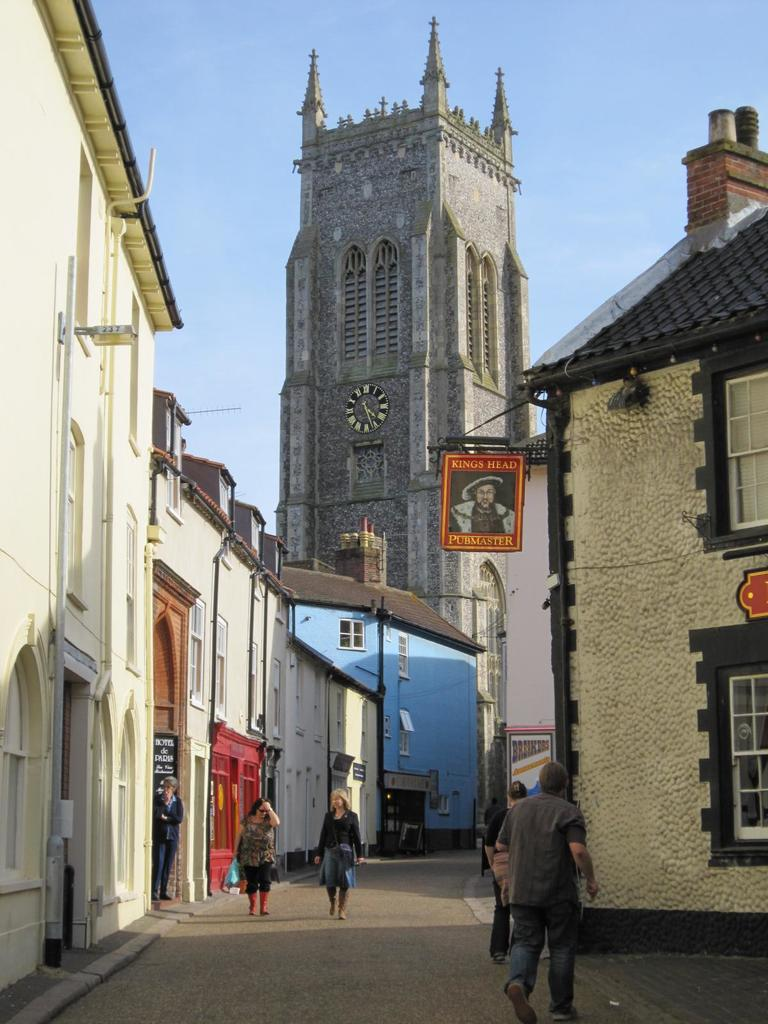Footwear: (503, 979, 540, 1023), (324, 884, 355, 921), (243, 889, 276, 919), (547, 1002, 580, 1021), (150, 886, 176, 902), (489, 952, 510, 967)
